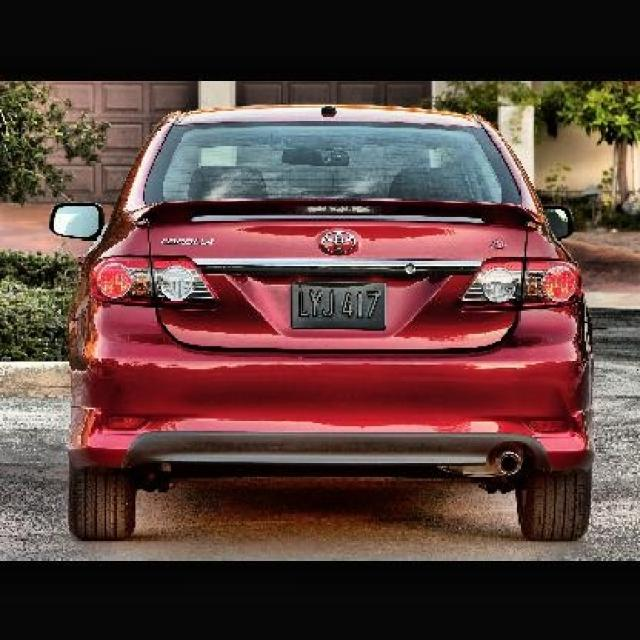maroon: (66, 102, 594, 541)
